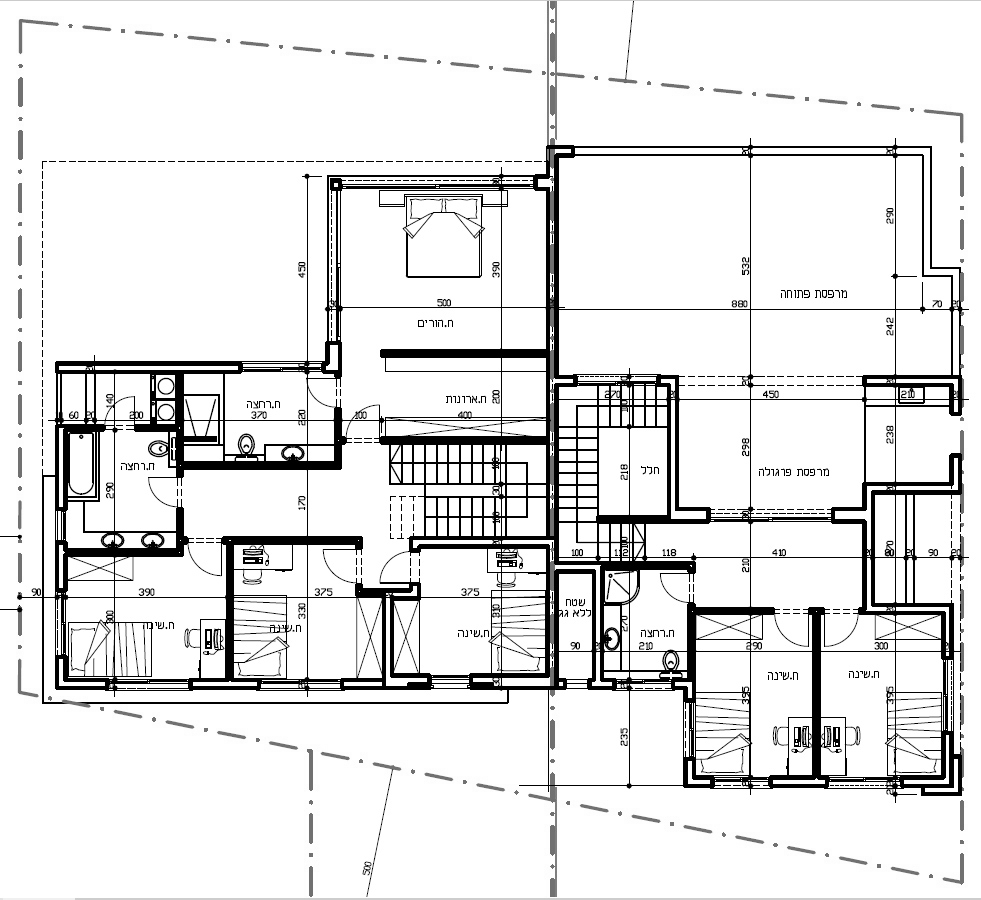door: (182, 532, 227, 588), (320, 542, 366, 590), (375, 543, 421, 591), (770, 615, 811, 649), (345, 403, 382, 439), (822, 615, 860, 650)
room: (325, 176, 557, 359), (380, 536, 557, 690), (224, 535, 393, 690), (812, 605, 953, 788), (54, 547, 233, 690), (687, 608, 821, 788), (54, 425, 182, 557), (174, 370, 341, 470)
window: (339, 175, 536, 191), (327, 188, 342, 343), (703, 768, 778, 795), (824, 769, 899, 796), (106, 678, 190, 693), (259, 677, 343, 692), (240, 360, 323, 375), (54, 588, 67, 658), (615, 678, 673, 692), (429, 674, 472, 691), (54, 506, 66, 543)
